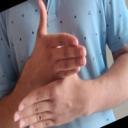hand: (28, 0, 87, 80), (13, 75, 91, 128)
